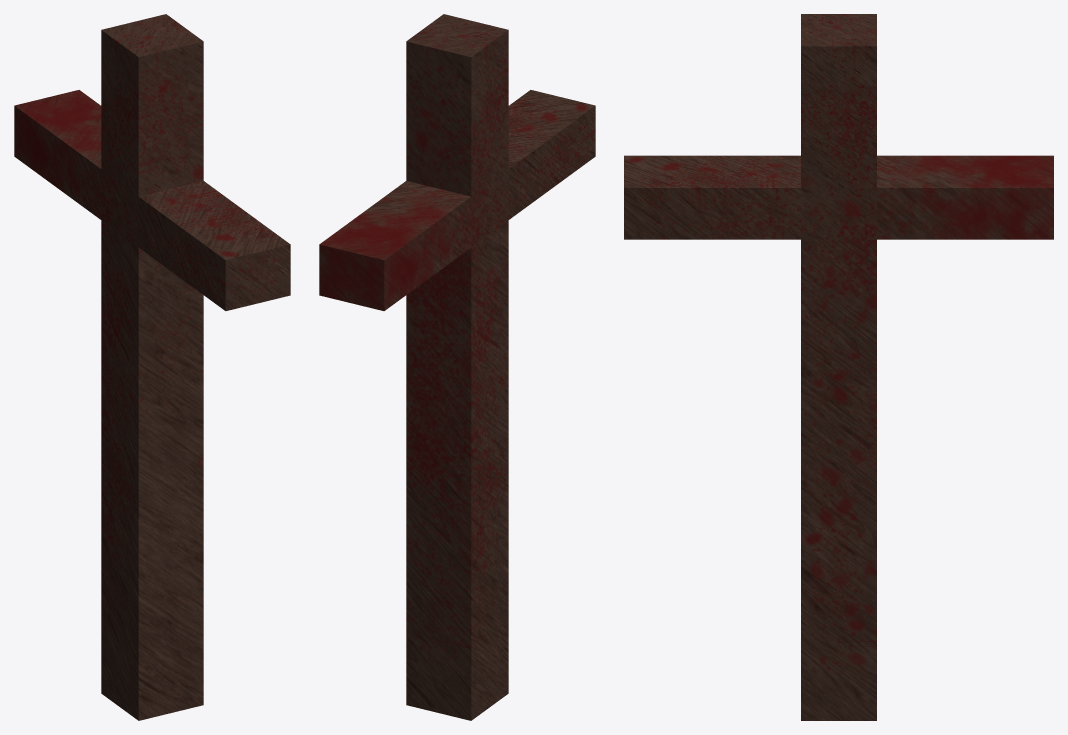
Rendered from Crucifix.fbx.
The picture shows the model from 3 angles, left to right: view 1: azimuth 30°, elevation 25°; view 2: azimuth 150°, elevation 25°; view 3: azimuth 270°, elevation 25°; orthographic projection.
Visible parts, largest first — view 1: pCube5; view 2: pCube5; view 3: pCube5.
Boxes of the visible parts, x1,y1,x2,y2 form: pCube5: (14, 14, 290, 720); pCube5: (319, 14, 595, 720); pCube5: (624, 14, 1053, 720).
Bounding box in the file's own units: 0.5303 × 5.18 × 2.99.
